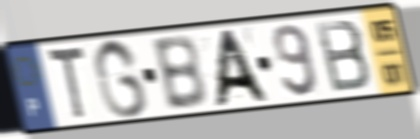9: (271, 22, 319, 100)
A: (210, 26, 273, 109)
B: (149, 32, 210, 113), (312, 17, 374, 96)
G: (90, 36, 151, 121)
T: (44, 43, 89, 123)
